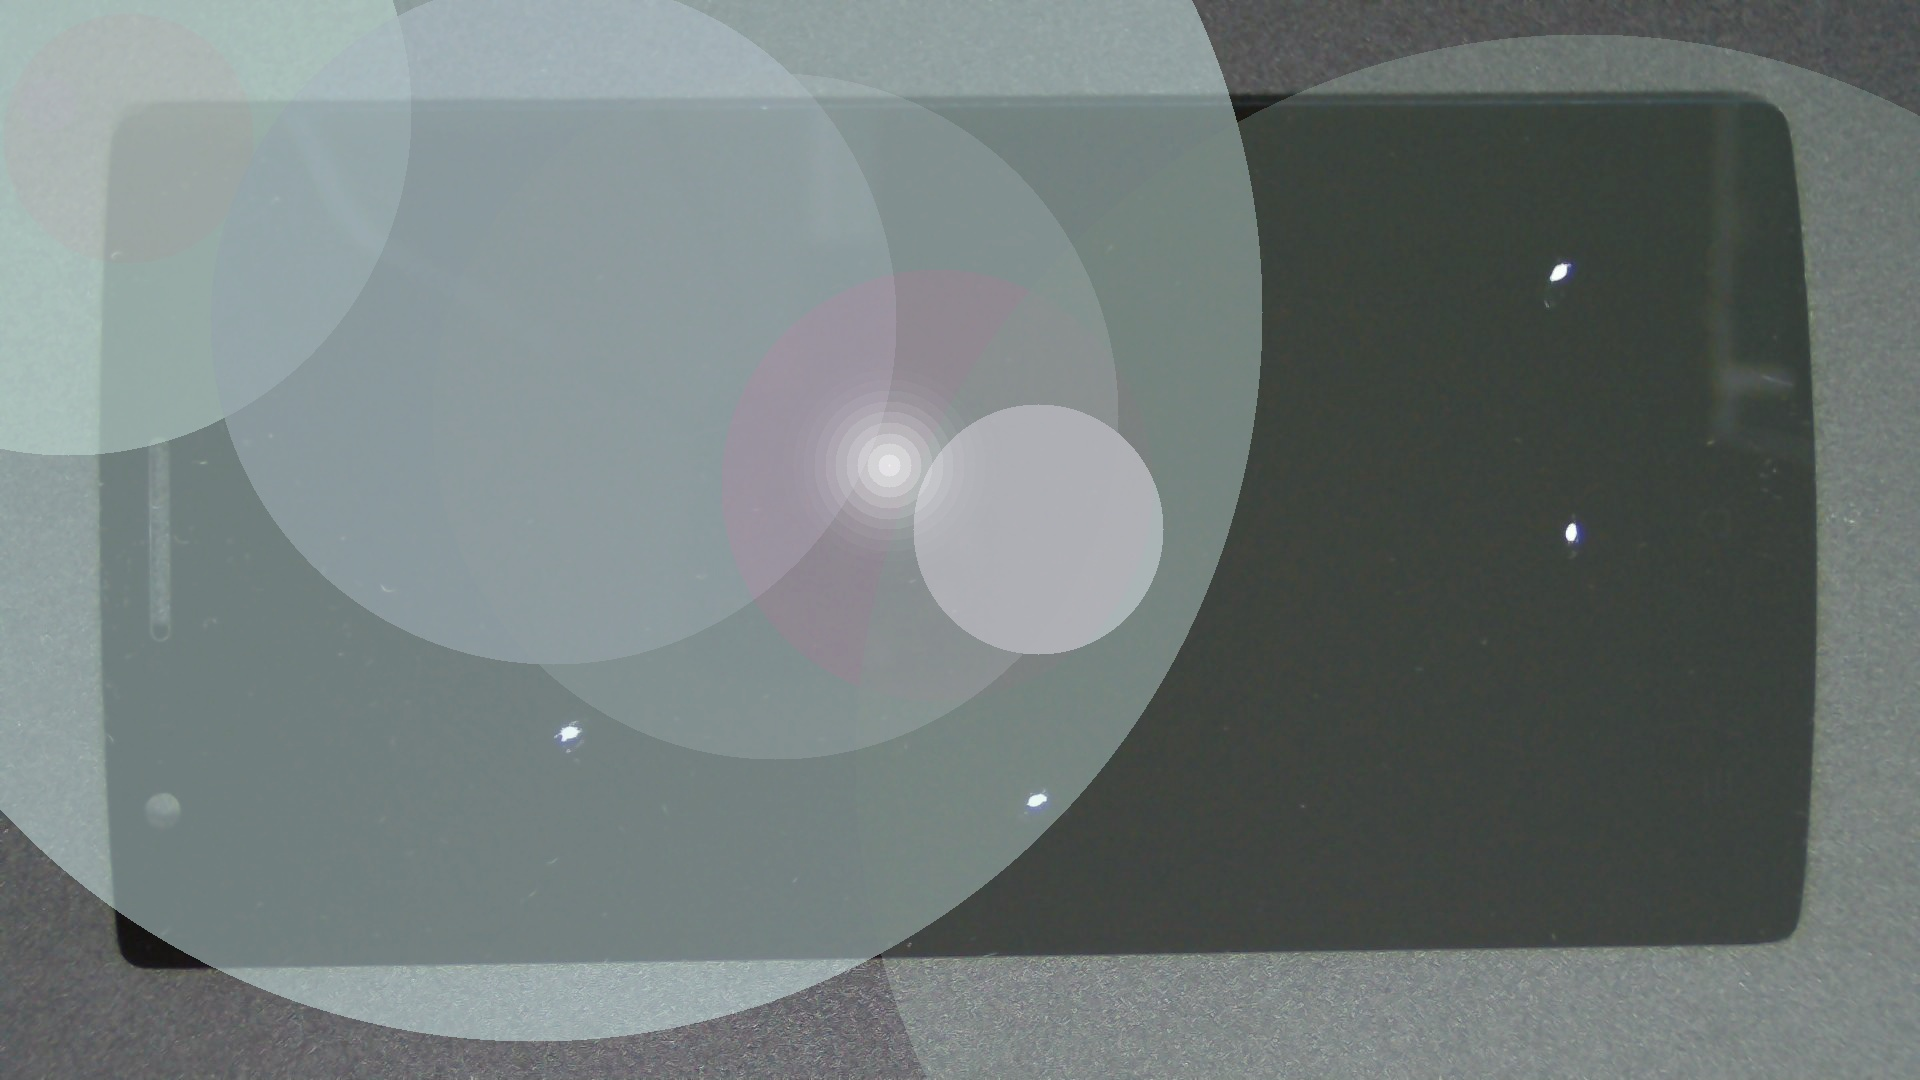oil: (522, 393, 1564, 1080), (786, 260, 1920, 782), (290, 360, 866, 1080), (290, 369, 869, 1080), (782, 131, 1920, 392)
